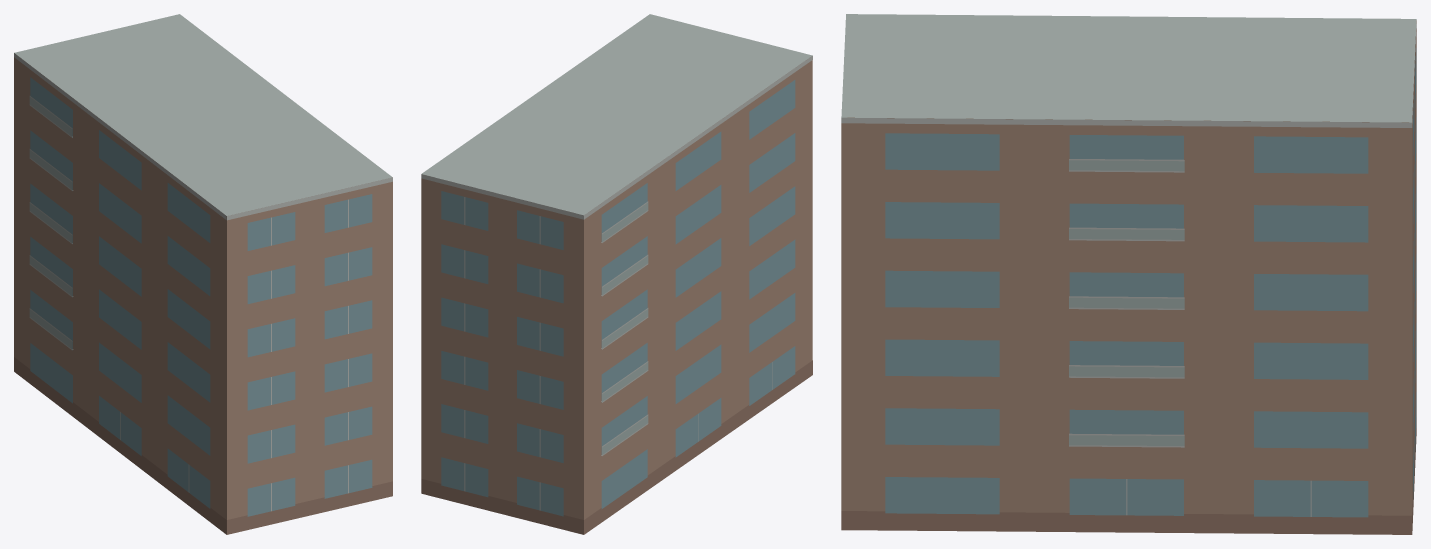
File: survey-upis-32735995.glb
The picture shows the model from 3 angles, left to right: view 1: azimuth 30°, elevation 25°; view 2: azimuth 150°, elevation 25°; view 3: azimuth 270°, elevation 25°; orthographic projection. The views are drawn at different scales.
Parts seen in each view (by area): view 1: survey-upis-32735995.tmp; view 2: survey-upis-32735995.tmp; view 3: survey-upis-32735995.tmp.
Boxes of the visible parts, <box> form: survey-upis-32735995.tmp: <box>14,14,392,534</box>; survey-upis-32735995.tmp: <box>421,14,812,534</box>; survey-upis-32735995.tmp: <box>841,14,1416,534</box>.
Size of the model in its own units: 10.14 by 17.95 by 22.7.
